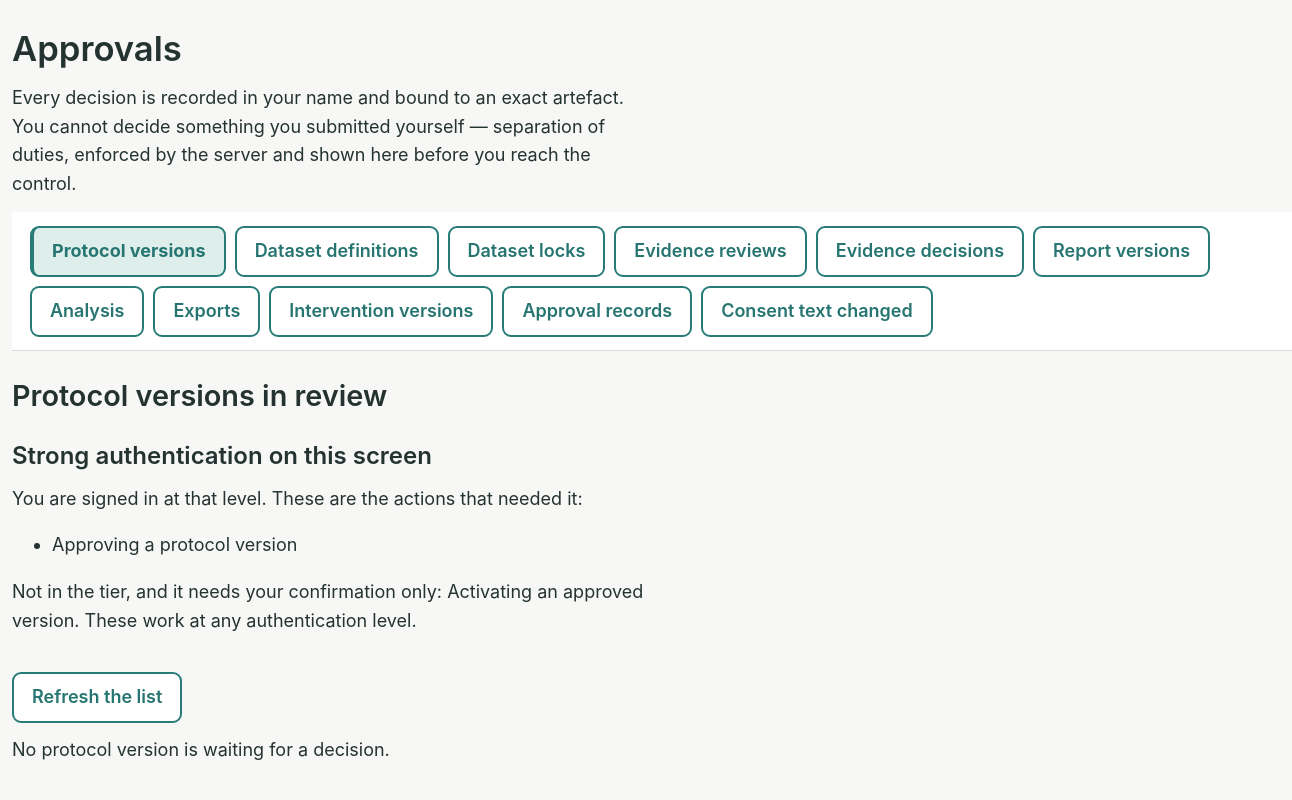
Scenario: approving a dataset definition › an empty queue says so rather than looking unloaded
The image size is (1292, 800).
Click the button "Dataset definitions": (337, 251) [235,226,438,277]
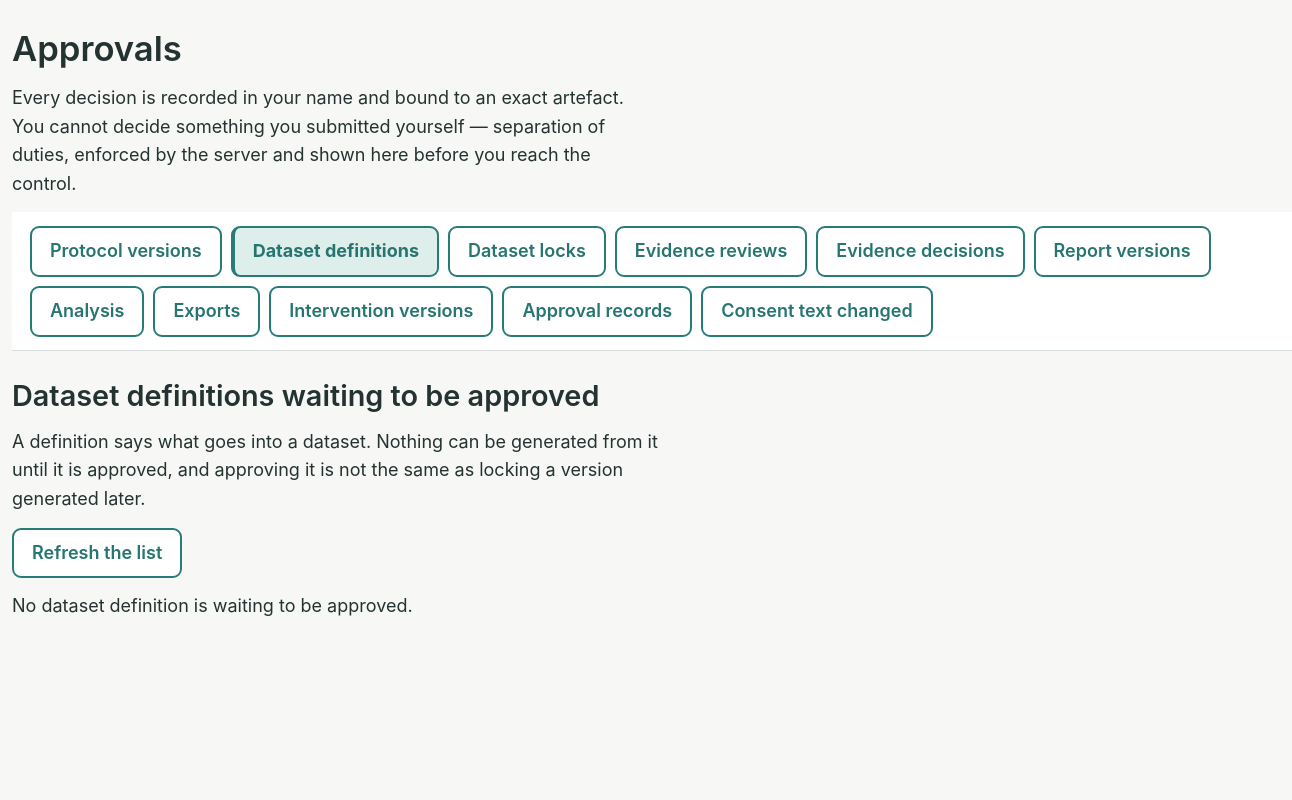
Expected: the text "No dataset definition is waiting to be approved." is shown, [12,595,413,616]
